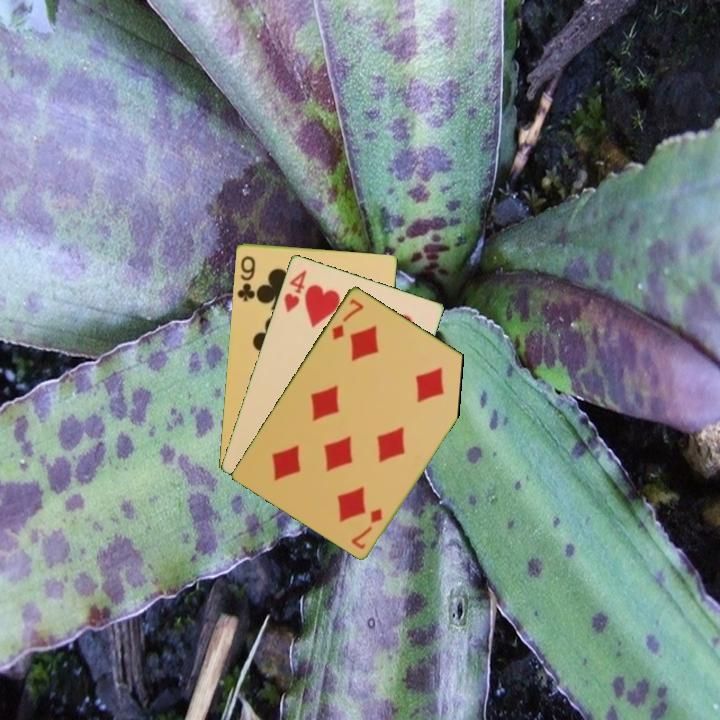4h: (280, 266, 309, 315)
7d: (328, 295, 367, 342), (348, 504, 385, 552)
9c: (234, 252, 258, 304)
